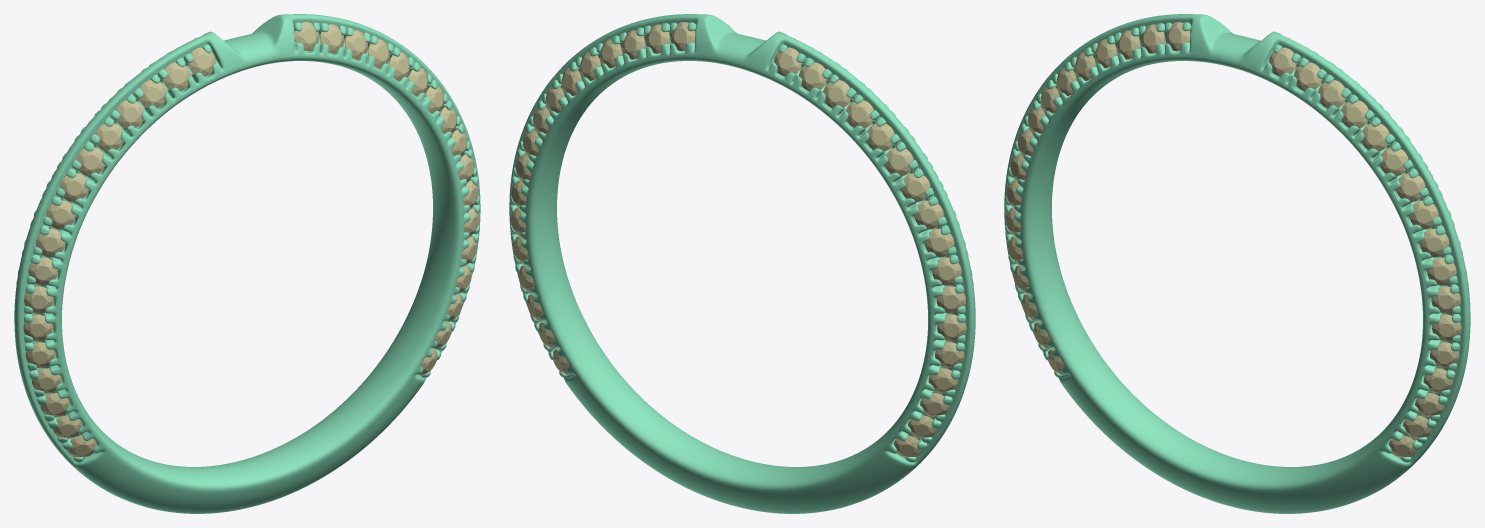
3 views of the same model, side by side, from view 1: azimuth 30°, elevation 25°; view 2: azimuth 150°, elevation 25°; view 3: azimuth 330°, elevation 25° (orthographic).
Visible parts, largest first — view 1: Metal02, Diamond_Gem.048, Diamond_Gem.050, Diamond_Gem.049, Diamond_Gem.034, Diamond_Gem.047, Diamond_Gem.035, Diamond_Gem.036, Diamond_Gem.046, Diamond_Gem.037, Diamond_Gem.045, Diamond_Gem.038 (+2 smaller); view 2: Metal02, Diamond_Gem.053, Diamond_Gem.051, Diamond_Gem.052, Diamond_Gem.067, Diamond_Gem.054, Diamond_Gem.066, Diamond_Gem.065, Diamond_Gem.055, Diamond_Gem.064, Diamond_Gem.056, Diamond_Gem.063 (+2 smaller); view 3: Metal02, Diamond_Gem.019, Diamond_Gem.018, Diamond_Gem.017, Diamond_Gem.020, Diamond_Gem.033, Diamond_Gem.032, Diamond_Gem.031, Diamond_Gem.021, Diamond_Gem.030, Diamond_Gem.022, Diamond_Gem.029 (+2 smaller).
Part boxes in pixels (left/top/right/bottom): Metal02: left=14, top=14, right=480, bottom=513; Diamond_Gem.048: left=116, top=100, right=143, bottom=128; Diamond_Gem.050: left=76, top=147, right=104, bottom=176; Diamond_Gem.049: left=95, top=123, right=123, bottom=151; Diamond_Gem.034: left=59, top=173, right=88, bottom=201; Diamond_Gem.047: left=139, top=80, right=166, bottom=108; Diamond_Gem.035: left=46, top=200, right=75, bottom=229; Diamond_Gem.036: left=35, top=228, right=65, bottom=257; Diamond_Gem.046: left=163, top=62, right=190, bottom=91; Diamond_Gem.037: left=28, top=257, right=57, bottom=285; Diamond_Gem.045: left=188, top=47, right=215, bottom=76; Diamond_Gem.038: left=24, top=286, right=53, bottom=313; Metal02: left=509, top=14, right=975, bottom=513; Diamond_Gem.053: left=846, top=100, right=873, bottom=128; Diamond_Gem.051: left=885, top=147, right=913, bottom=176; Diamond_Gem.052: left=866, top=123, right=894, bottom=151; Diamond_Gem.067: left=901, top=173, right=930, bottom=201; Diamond_Gem.054: left=823, top=80, right=850, bottom=108; Diamond_Gem.066: left=914, top=200, right=943, bottom=229; Diamond_Gem.065: left=924, top=228, right=954, bottom=257; Diamond_Gem.055: left=799, top=62, right=826, bottom=91; Diamond_Gem.064: left=932, top=257, right=961, bottom=285; Diamond_Gem.056: left=774, top=47, right=801, bottom=76; Diamond_Gem.063: left=936, top=286, right=965, bottom=313; Metal02: left=1004, top=14, right=1470, bottom=513; Diamond_Gem.019: left=1341, top=100, right=1368, bottom=128; Diamond_Gem.018: left=1361, top=123, right=1389, bottom=151; Diamond_Gem.017: left=1380, top=147, right=1408, bottom=176; Diamond_Gem.020: left=1318, top=80, right=1345, bottom=108; Diamond_Gem.033: left=1396, top=173, right=1425, bottom=201; Diamond_Gem.032: left=1409, top=200, right=1438, bottom=229; Diamond_Gem.031: left=1419, top=228, right=1449, bottom=257; Diamond_Gem.021: left=1294, top=62, right=1321, bottom=91; Diamond_Gem.030: left=1427, top=257, right=1456, bottom=285; Diamond_Gem.022: left=1269, top=47, right=1296, bottom=76; Diamond_Gem.029: left=1431, top=286, right=1460, bottom=313.
Bounding box in the file's own units: 20.91 × 20.77 × 2.
